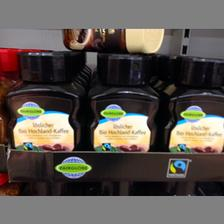Kaffee: (3, 48, 83, 148), (88, 49, 158, 151), (162, 53, 222, 151), (61, 28, 163, 52)
